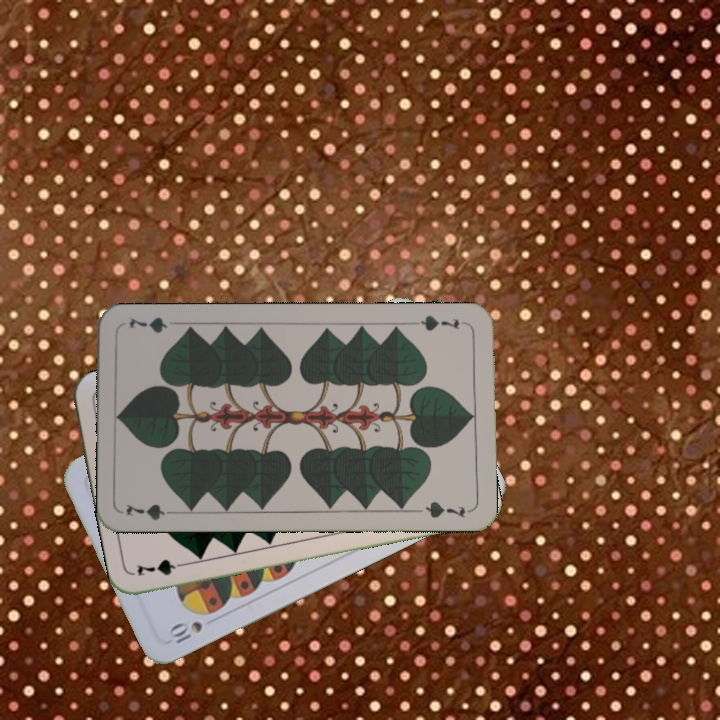G7: (132, 555, 192, 579), (121, 500, 181, 523), (411, 311, 470, 334)
S10: (164, 617, 205, 646)
